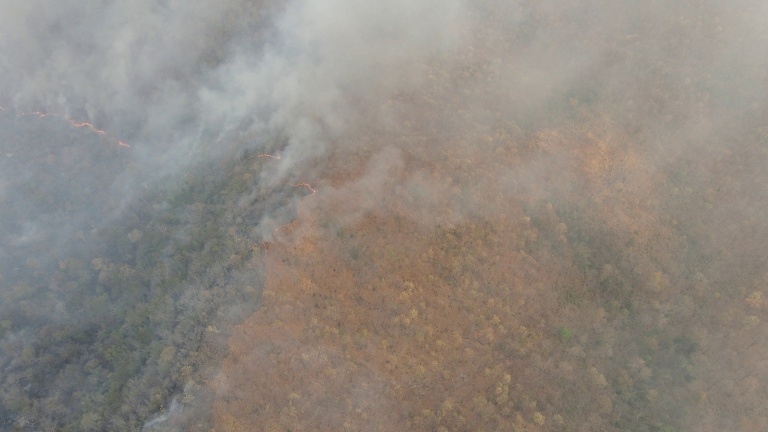fire: (3, 95, 132, 155), (253, 214, 300, 263), (272, 174, 322, 210), (239, 149, 287, 172)
smoke: (120, 1, 449, 182), (140, 392, 185, 432)
